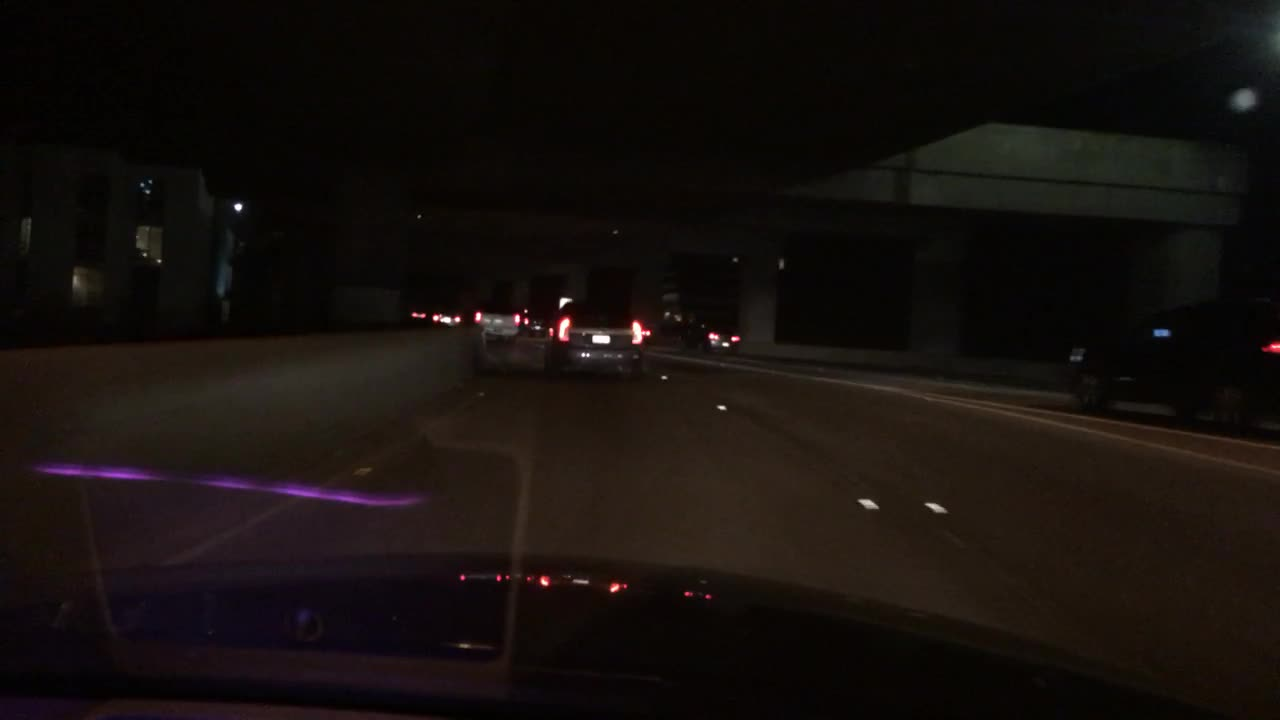car: (1063, 293, 1279, 434), (543, 297, 649, 376), (676, 314, 744, 354), (474, 300, 519, 344), (519, 307, 553, 334), (430, 309, 460, 327), (408, 307, 428, 320)
